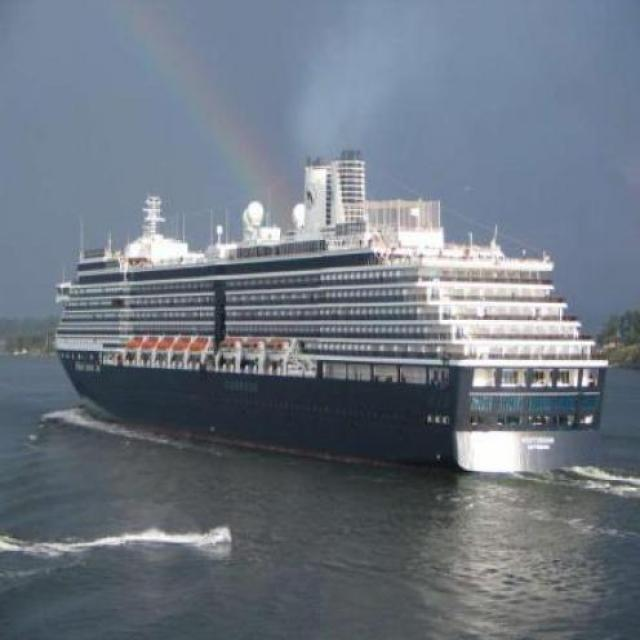boat: (62, 230, 612, 470)
